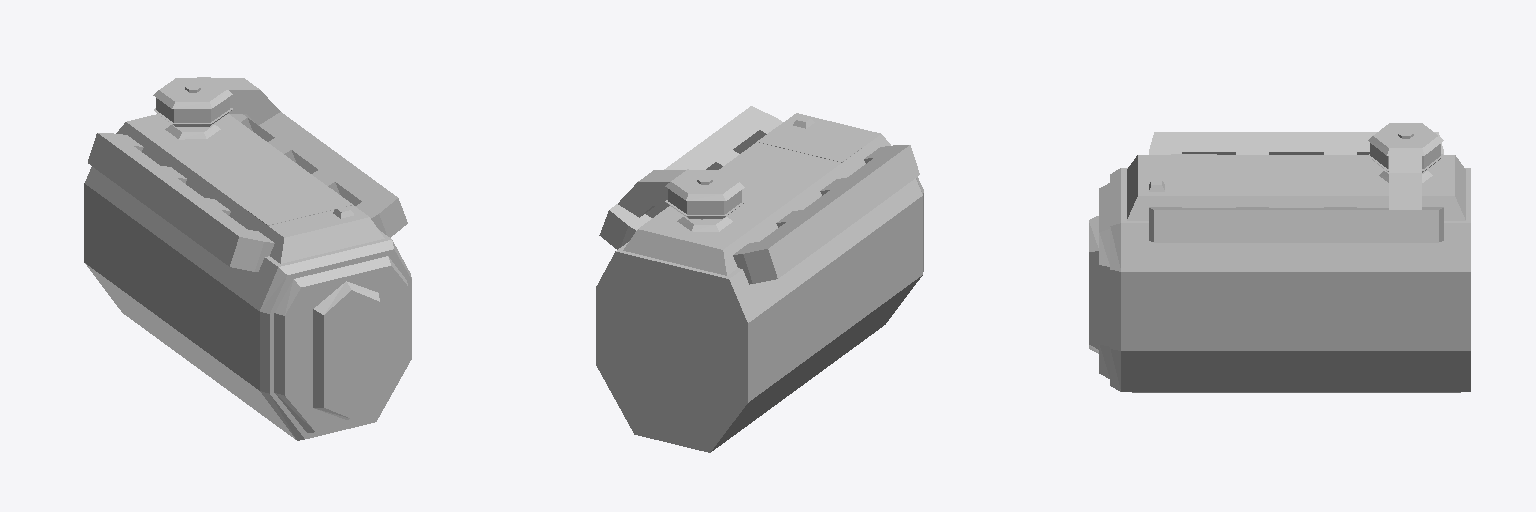
Rendered from v4inlineinsolvo.obj.
3 renders of one model, left to right at view 1: azimuth 30°, elevation 25°; view 2: azimuth 150°, elevation 25°; view 3: azimuth 270°, elevation 25°, orthographic.
Parts seen in each view (by area): view 1: end, middle, start, carb; view 2: start, middle, end, carb; view 3: middle, end, start, carb.
Boxes of the visible parts, x1=… form: end: x1=202, y1=178, x2=411, y2=440; middle: x1=115, y1=114, x2=370, y2=406; start: x1=84, y1=112, x2=282, y2=344; carb: x1=153, y1=77, x2=280, y2=139; start: x1=596, y1=204, x2=804, y2=452; middle: x1=654, y1=126, x2=892, y2=420; end: x1=724, y1=106, x2=923, y2=354; carb: x1=618, y1=169, x2=744, y2=231; middle: x1=1209, y1=132, x2=1383, y2=392; end: x1=1089, y1=132, x2=1216, y2=392; start: x1=1384, y1=132, x2=1470, y2=392; carb: x1=1368, y1=123, x2=1443, y2=209.
Bounding box in the file's own units: 0.4005 × 0.5259 × 0.7437.